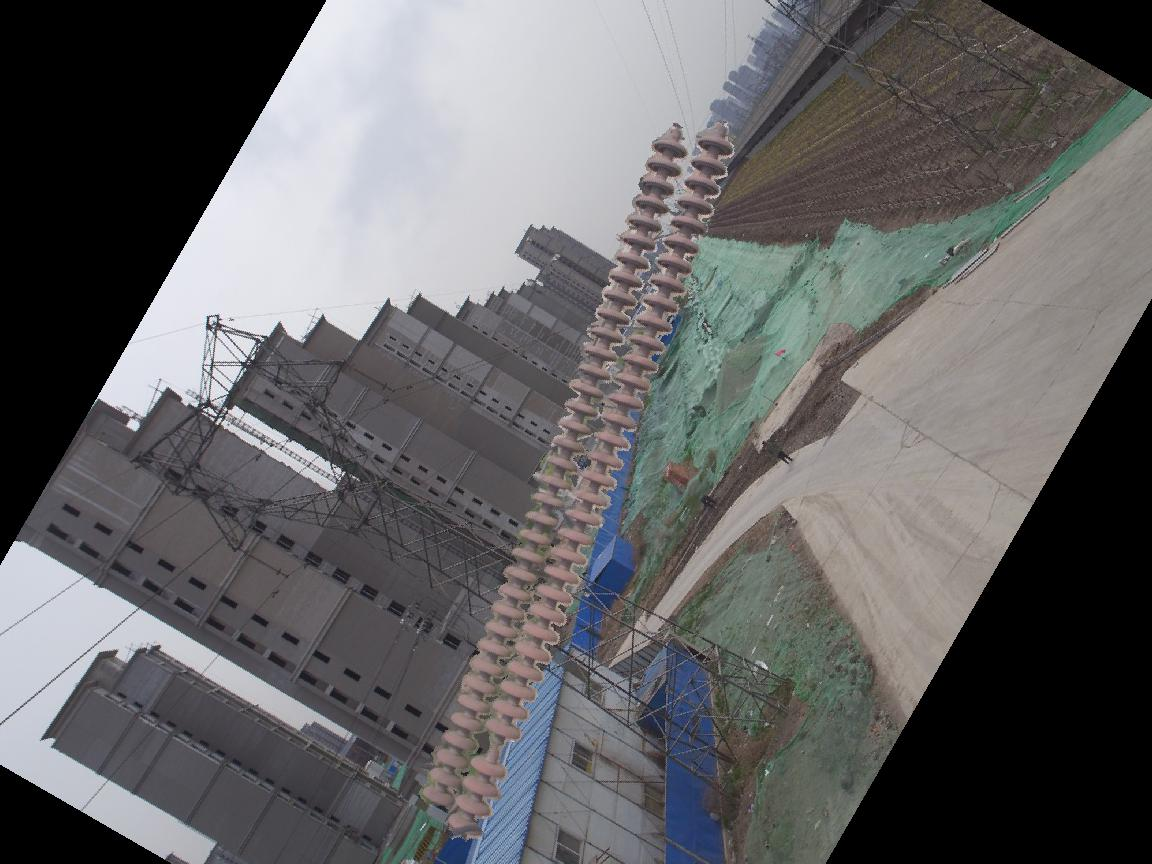insulator: (410, 119, 740, 838)
insulator_stringdrop: (468, 714, 526, 781)
